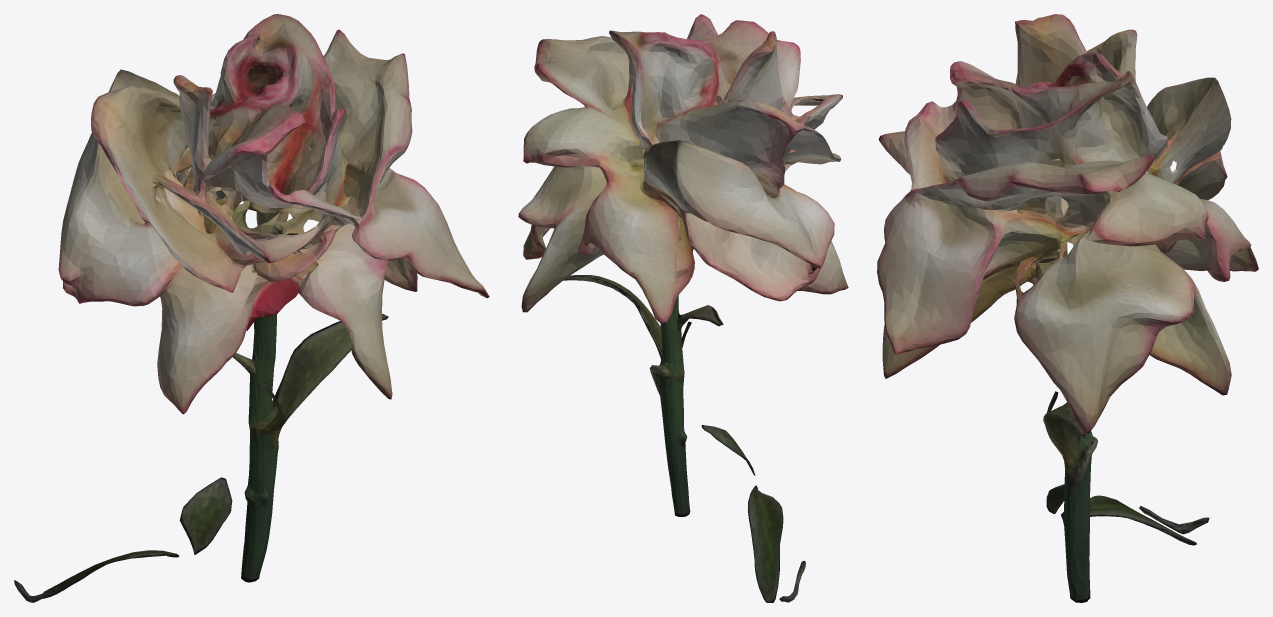
3 renders of one model, left to right at view 1: azimuth 30°, elevation 25°; view 2: azimuth 150°, elevation 25°; view 3: azimuth 270°, elevation 25°, orthographic. The views are drawn at different scales.
Visible parts, largest first — view 1: world; view 2: world; view 3: world.
Boxes of the visible parts, bbox=[...] form: world: bbox=[14, 14, 489, 602]; world: bbox=[518, 14, 848, 602]; world: bbox=[877, 14, 1258, 602].
Bounding box in the file's own units: 0.6234 × 0.9607 × 0.5811.
Materials: 1 (1 with a texture image).
